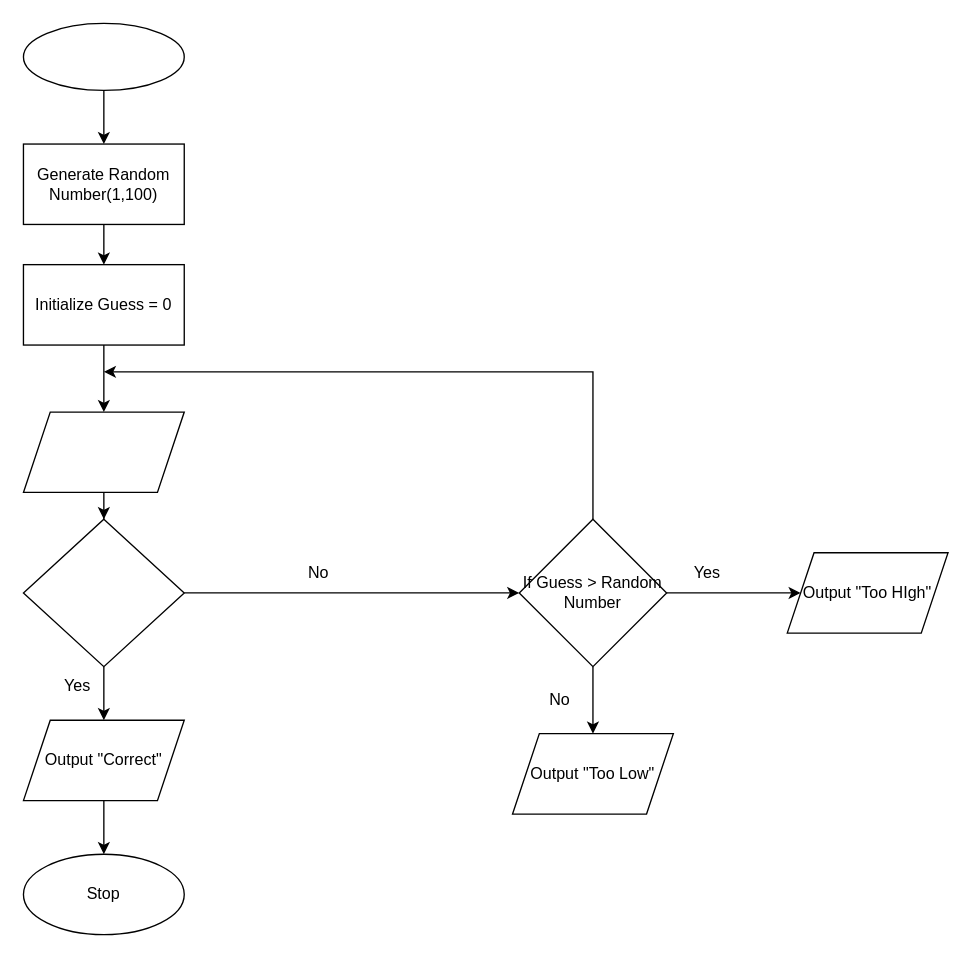
Some shapes in this 972 by 958 pixel diagram are drawn without their labels. Each missing label, with the centre of its shape:
"If Guess = Random Number" goes at (x=103, y=592).
"Input Guess" goes at (x=103, y=451).
"Start" goes at (x=103, y=56).
